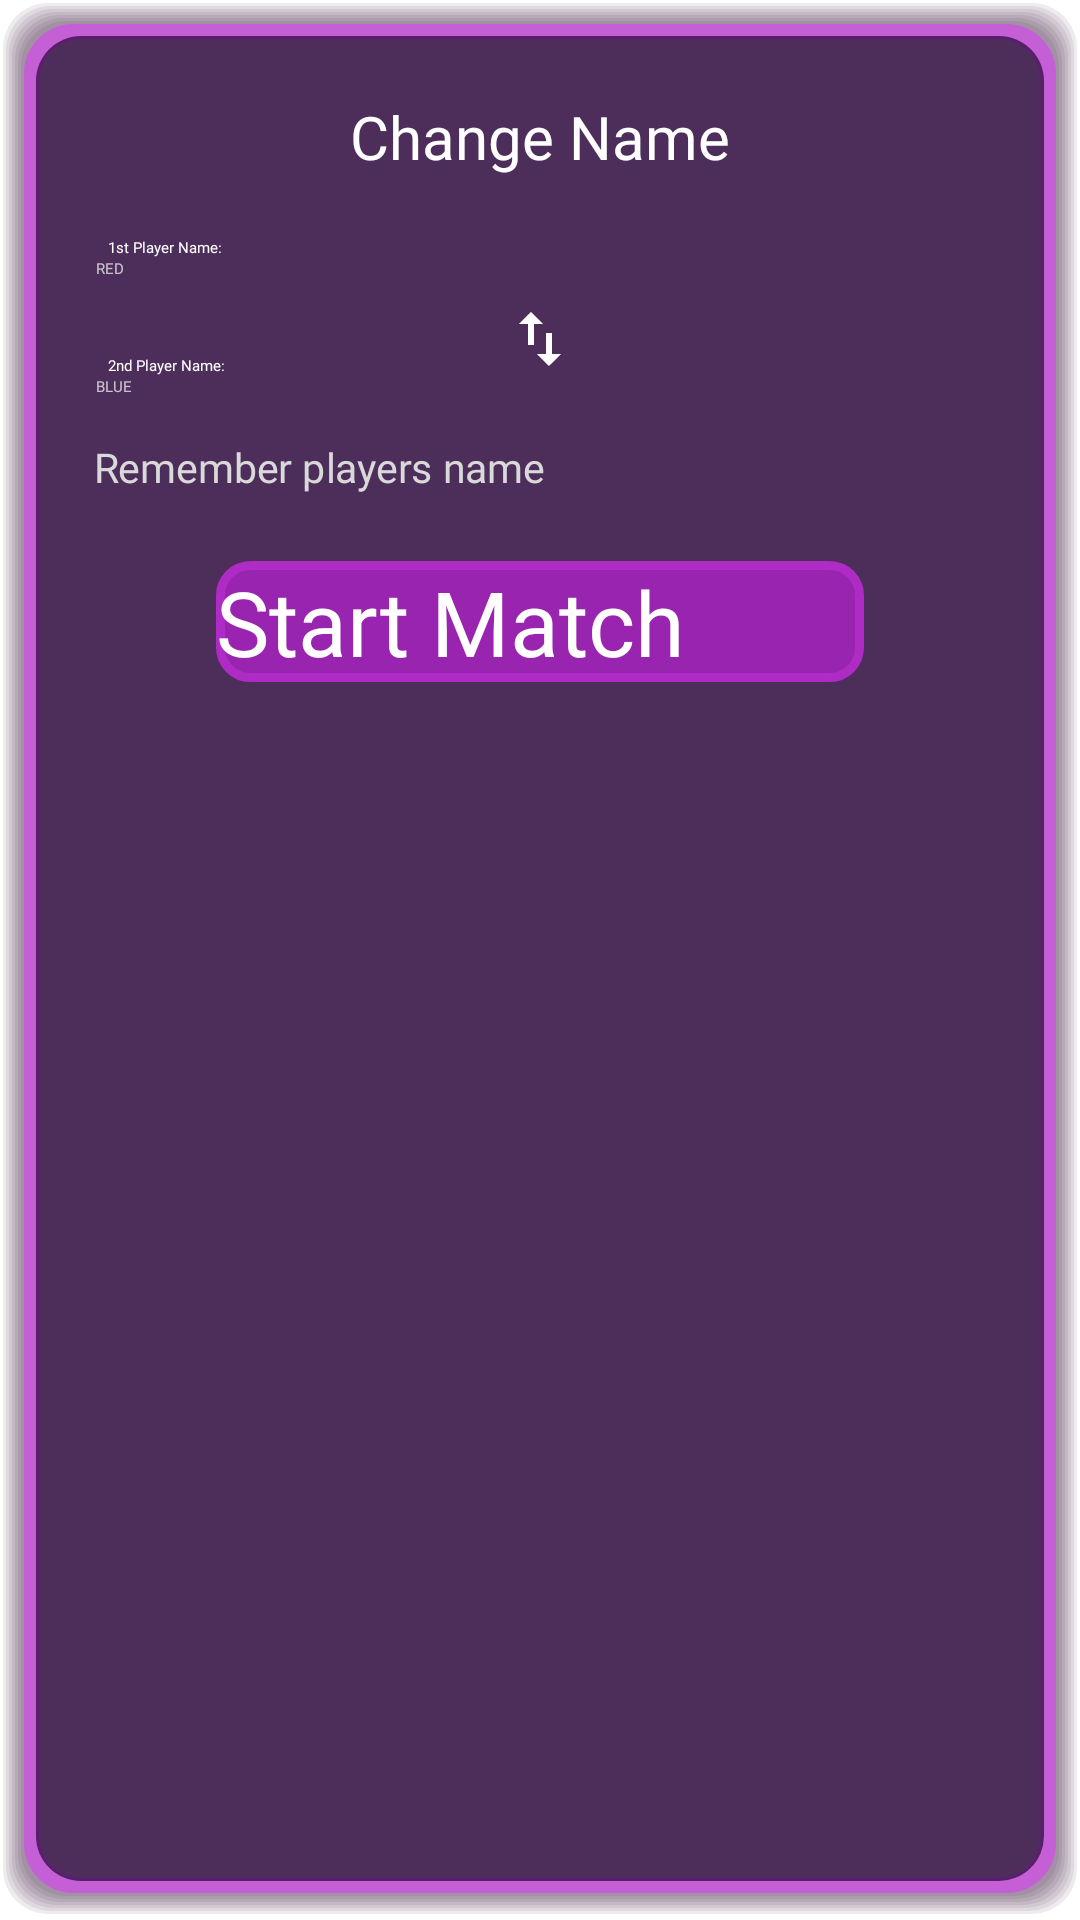

Locate icon controls on the screen. Image size 1080*1920, boxes as {"x1": x1, "y1": y1, "x2": x2, "y2": y2}.
swap: {"x1": 519, "y1": 312, "x2": 561, "y2": 366}
